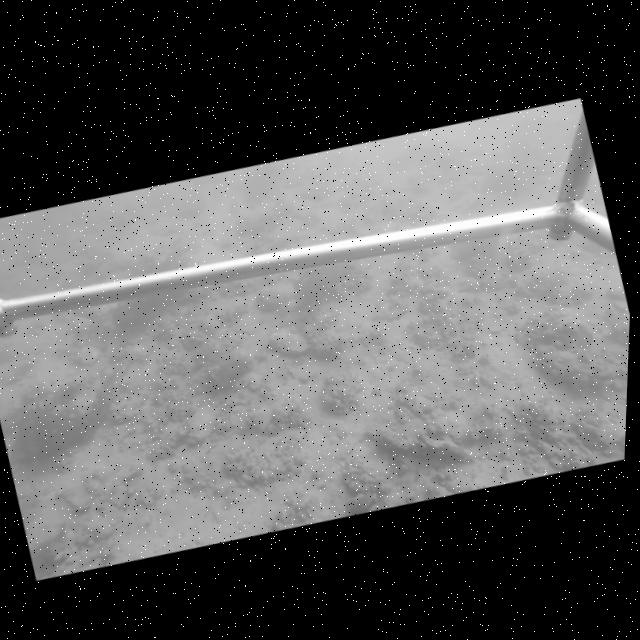Oyster-Closed: (526, 342, 617, 377), (268, 323, 310, 359)
Oyster-Indeterminate: (181, 404, 223, 444), (226, 404, 252, 437), (246, 406, 274, 435)
